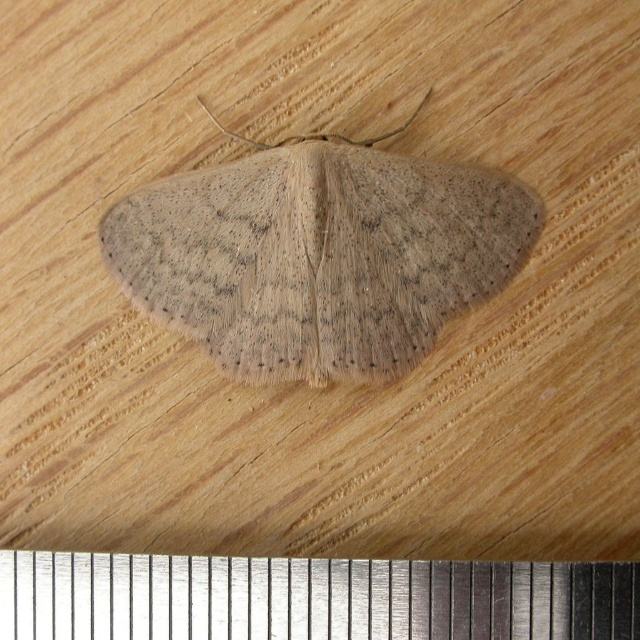Moths and butterflies: (97, 87, 543, 387)
